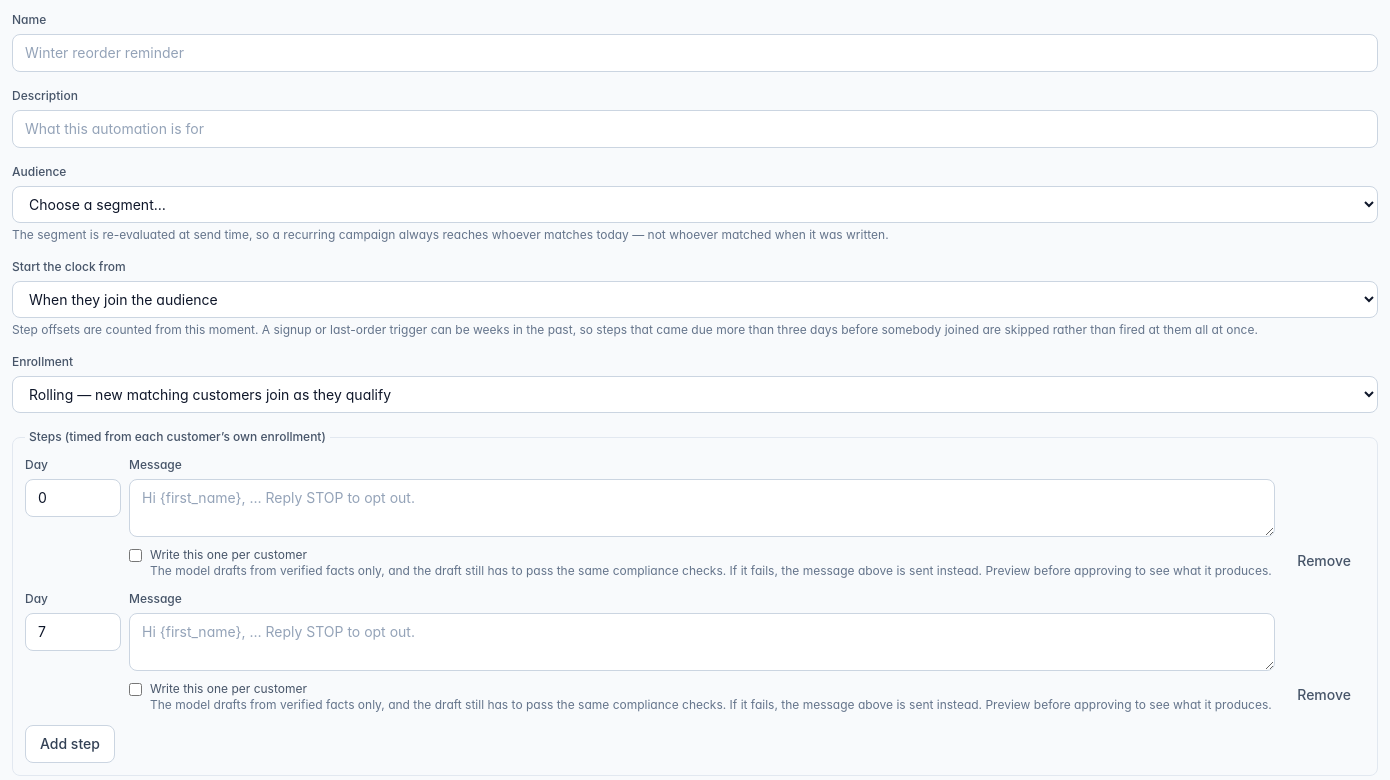
Test case: AutomationForm › keeps the last step from being removed
What coordinates should you click on to do the following:
click the button with aria-label "Remove step 2"
I would click on:
 (1324, 695)
Its box is [1283,677,1365,713].
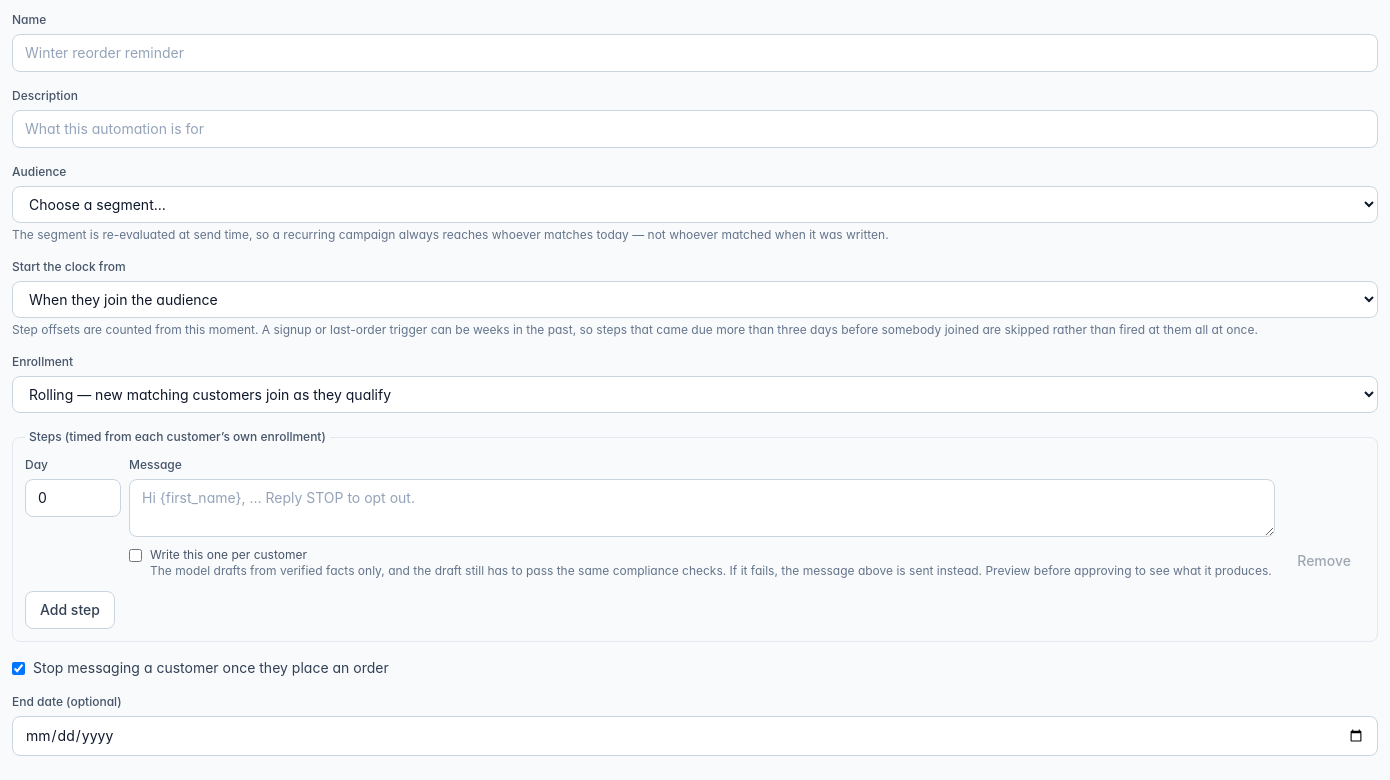
expect the button with aria-label "Remove step 1" is disabled: met, box [1283,543,1365,579]
